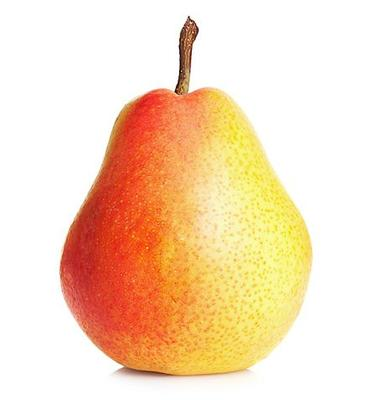pear: (0, 0, 375, 400)
